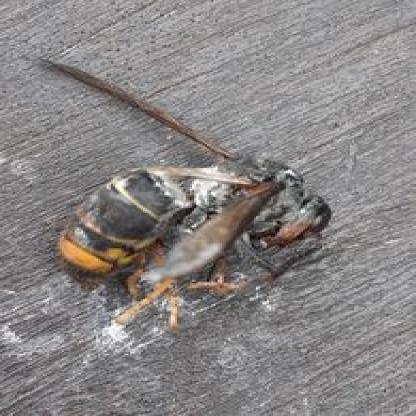Asian Hornet: (35, 53, 340, 331)
